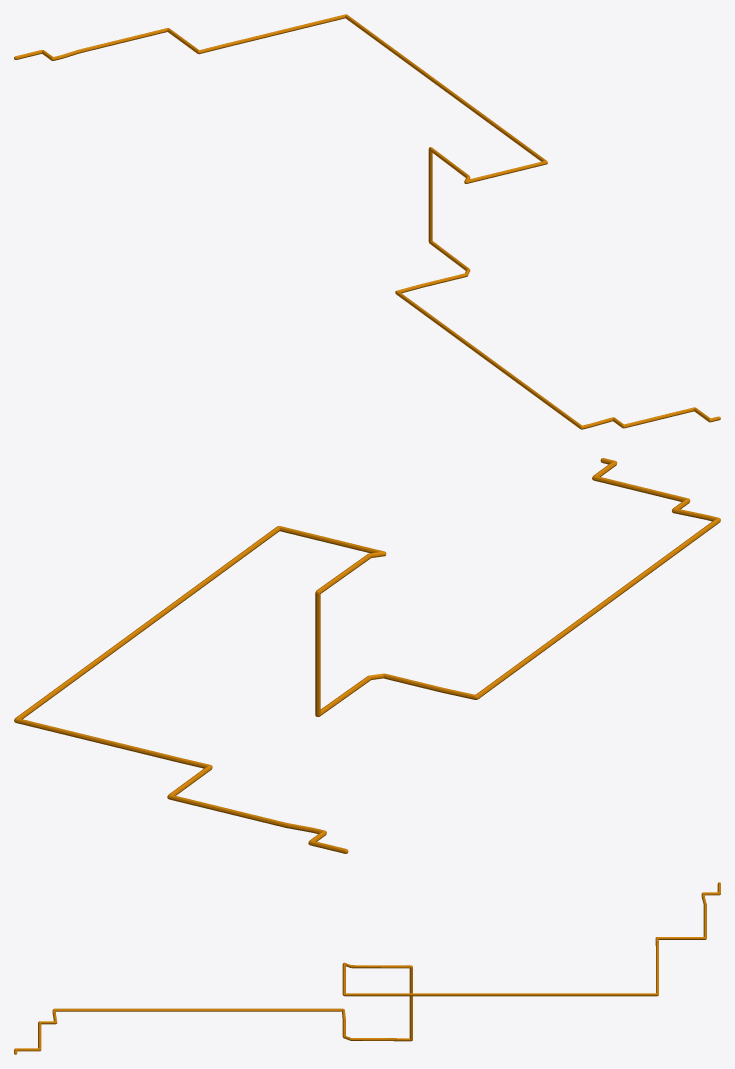
3 renders of one model, top to bottom at view 1: azimuth 30°, elevation 25°; view 2: azimuth 150°, elevation 25°; view 3: azimuth 270°, elevation 25°, orthographic. The views are drawn at different scales.
Bounding box in the file's own units: 1655 × 520 × 4403.
